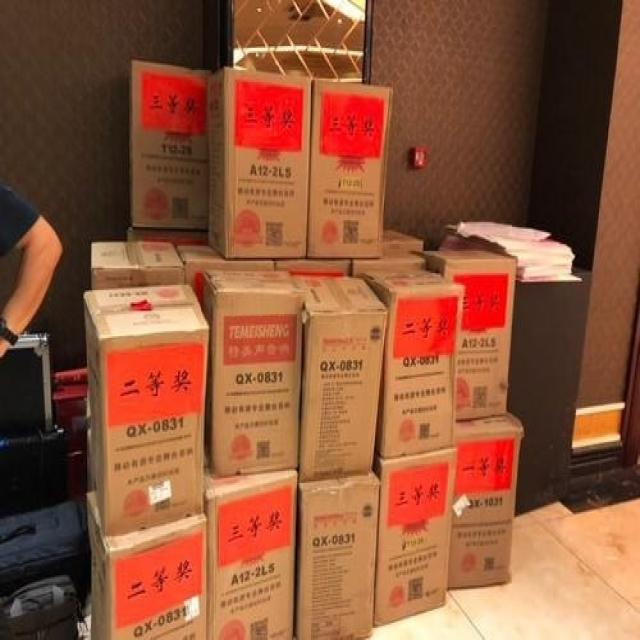box: (83, 282, 210, 538), (202, 270, 308, 480), (509, 263, 593, 519), (207, 65, 312, 258), (362, 268, 465, 457), (301, 273, 389, 481), (88, 490, 207, 640), (204, 461, 297, 640), (425, 249, 516, 422), (308, 79, 394, 256), (293, 471, 381, 640), (374, 445, 454, 626), (127, 60, 211, 229), (447, 413, 525, 587), (0, 498, 90, 606), (0, 427, 67, 517), (178, 246, 274, 307), (0, 335, 52, 439), (0, 573, 79, 640), (91, 242, 186, 288), (54, 367, 87, 452), (351, 251, 426, 278), (275, 259, 351, 276), (128, 229, 207, 244), (67, 451, 87, 507), (383, 229, 424, 253)
